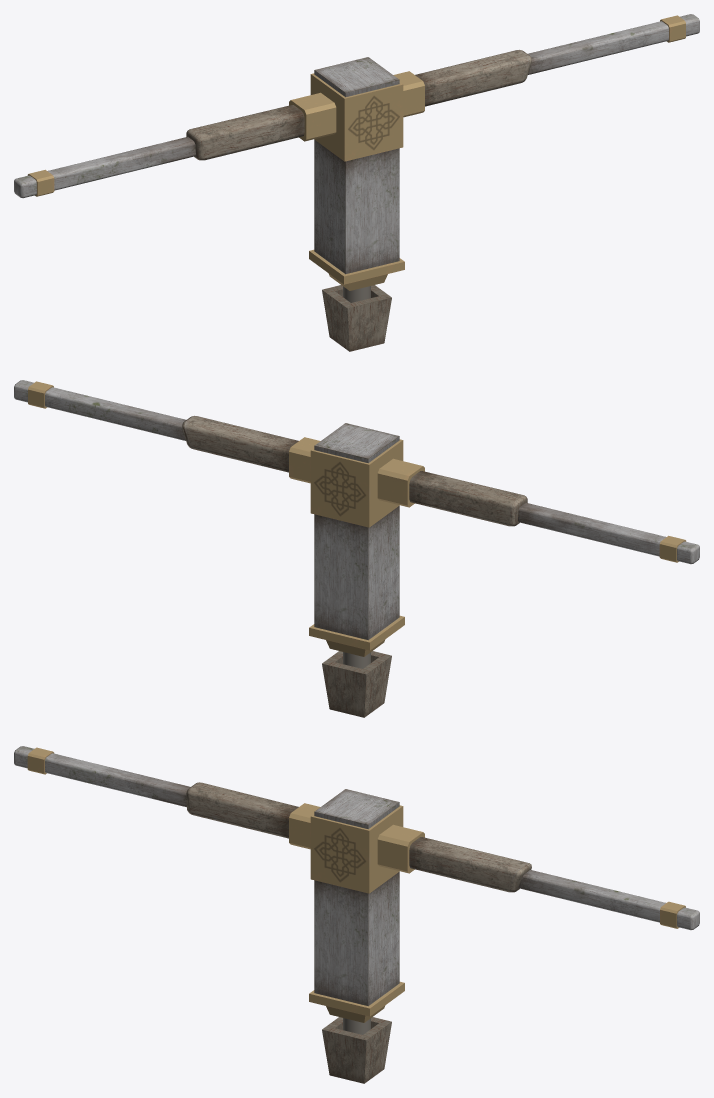
The model's file is mechanism2_1.fbx.
The picture shows the model from 3 angles, top to bottom: view 1: azimuth 30°, elevation 25°; view 2: azimuth 150°, elevation 25°; view 3: azimuth 330°, elevation 25°; orthographic projection.
Parts seen in each view (by area): view 1: lever, mechanism2_1_base; view 2: lever, mechanism2_1_base; view 3: lever, mechanism2_1_base.
Boxes of the visible parts, box(x1,y1,x2,y2) form: lever: box(14, 14, 699, 302); mechanism2_1_base: box(322, 285, 391, 351); lever: box(14, 380, 699, 668); mechanism2_1_base: box(322, 651, 391, 717); lever: box(14, 746, 699, 1034); mechanism2_1_base: box(322, 1017, 391, 1083).
Size of the model in its own units: 452 by 169 by 40.41.
